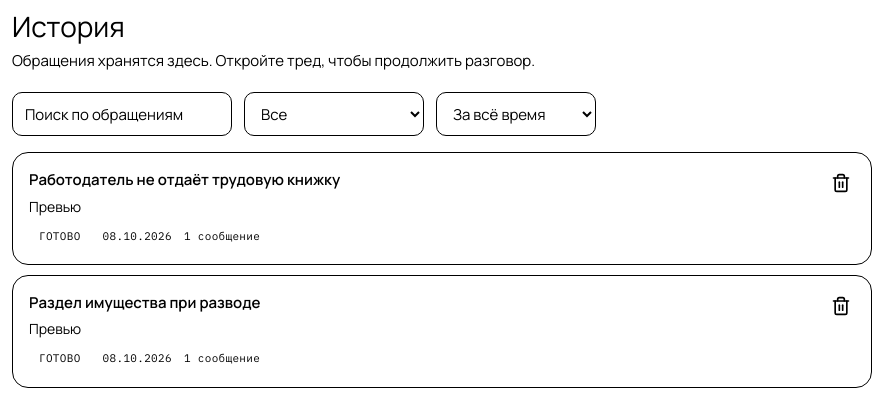
Test: HistoryPage › фильтрует список по поиску (с дебаунсом, запрос уходит на бэк)
The image size is (889, 405).
Check: the text "Работодатель не отдаёт трудовую книжку" is shown, box [29, 169, 340, 190]
Type "трудовую книжку" into the search field labelled "Поиск по обращениям" at (122, 114), box [12, 92, 232, 136]
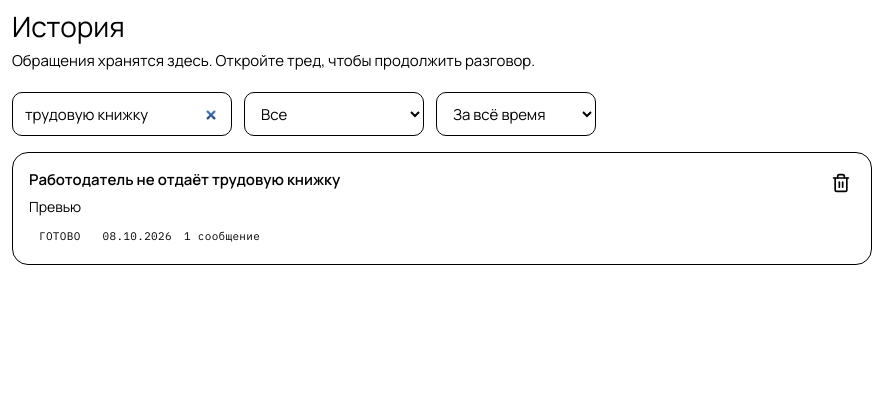
Check: the text "Работодатель не отдаёт трудовую книжку" is shown, box [29, 169, 340, 190]
Check: the link "Раздел имущества при разводе" is gone
